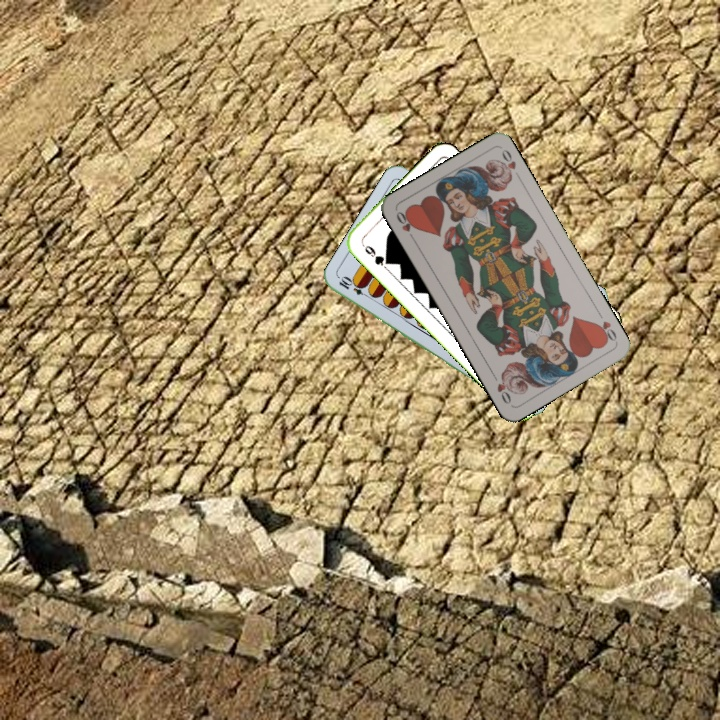E10: (335, 273, 373, 301)
G9: (358, 239, 392, 268)
HO: (591, 307, 619, 345), (392, 207, 418, 244)
